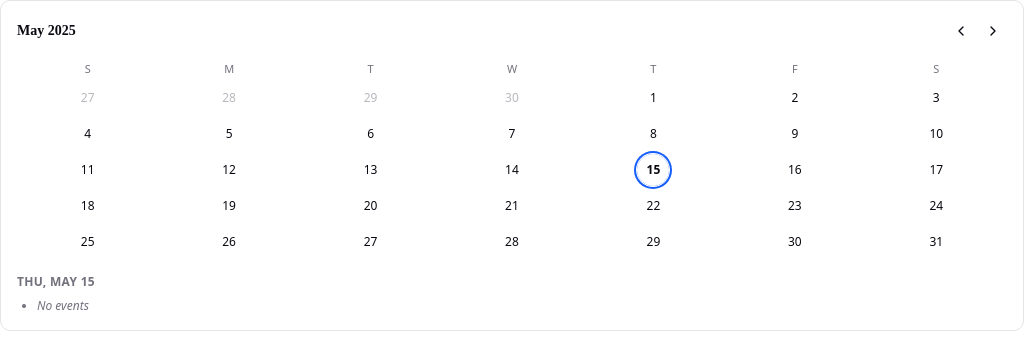
Test: MiniCalendarSidebar › Navigation › advances the mini-calendar view month without changing selectedDate
The image size is (1024, 348).
Click the button with test id "mini-calendar-next-month" at (993, 31), box [979,17,1007,45]
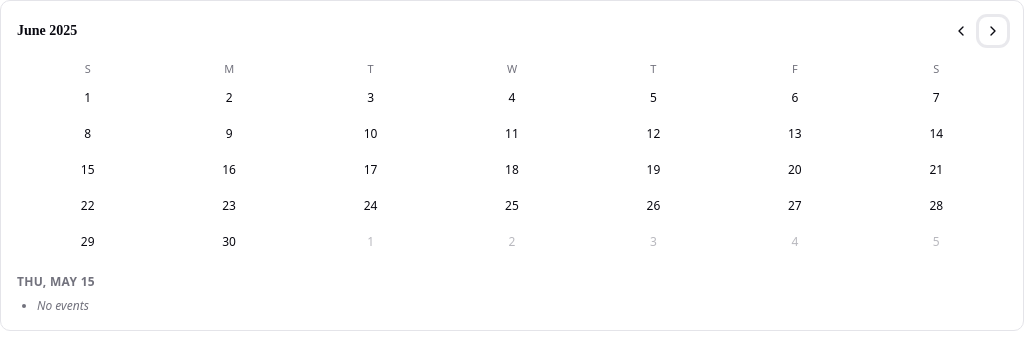
Expected: the heading with test id "mini-calendar-header" reads "June 2025", [17,23,77,38]
